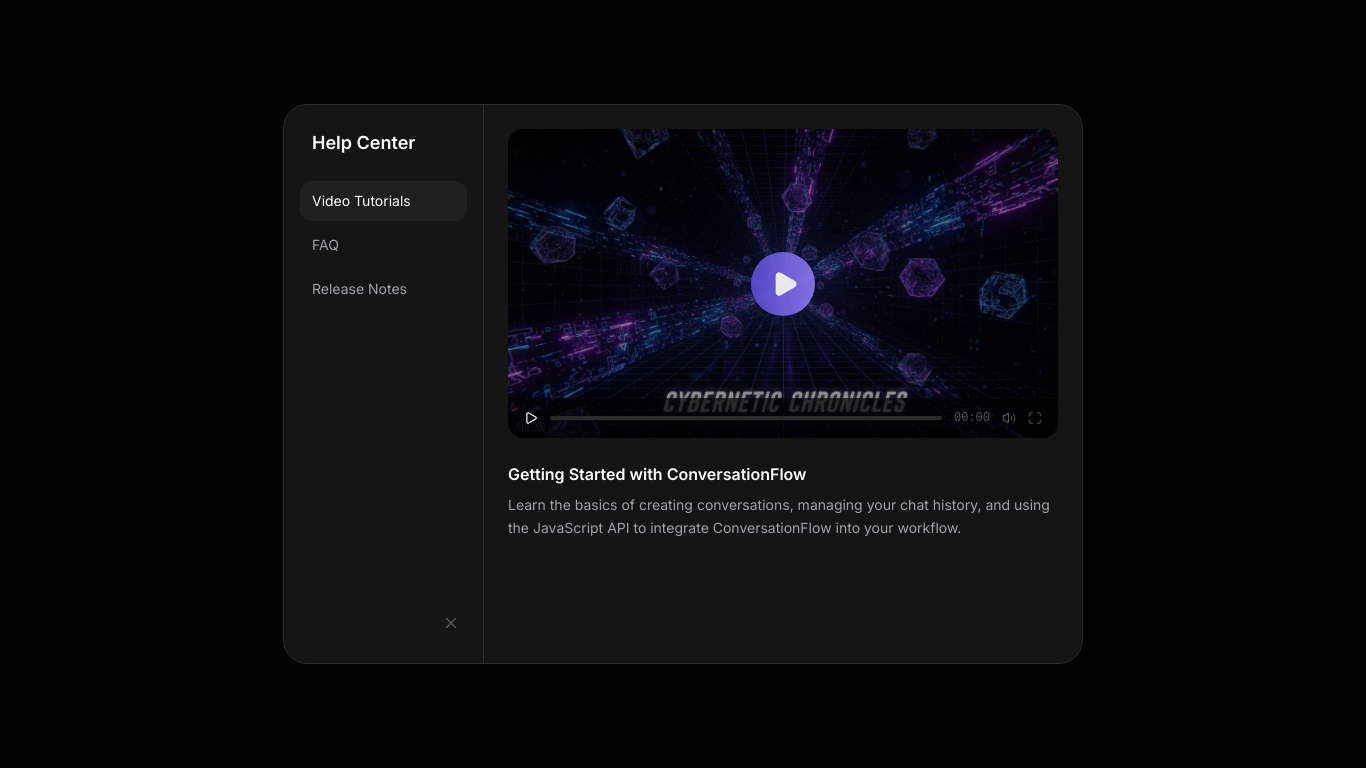
Scenario: HelpModal › switches tabs
The width and height of the screenshot is (1366, 768).
expect the heading "Getting Started with ConversationFlow" is shown: met, box [508, 464, 806, 484]
Click the button "FAQ" at (384, 245), box [300, 225, 467, 265]
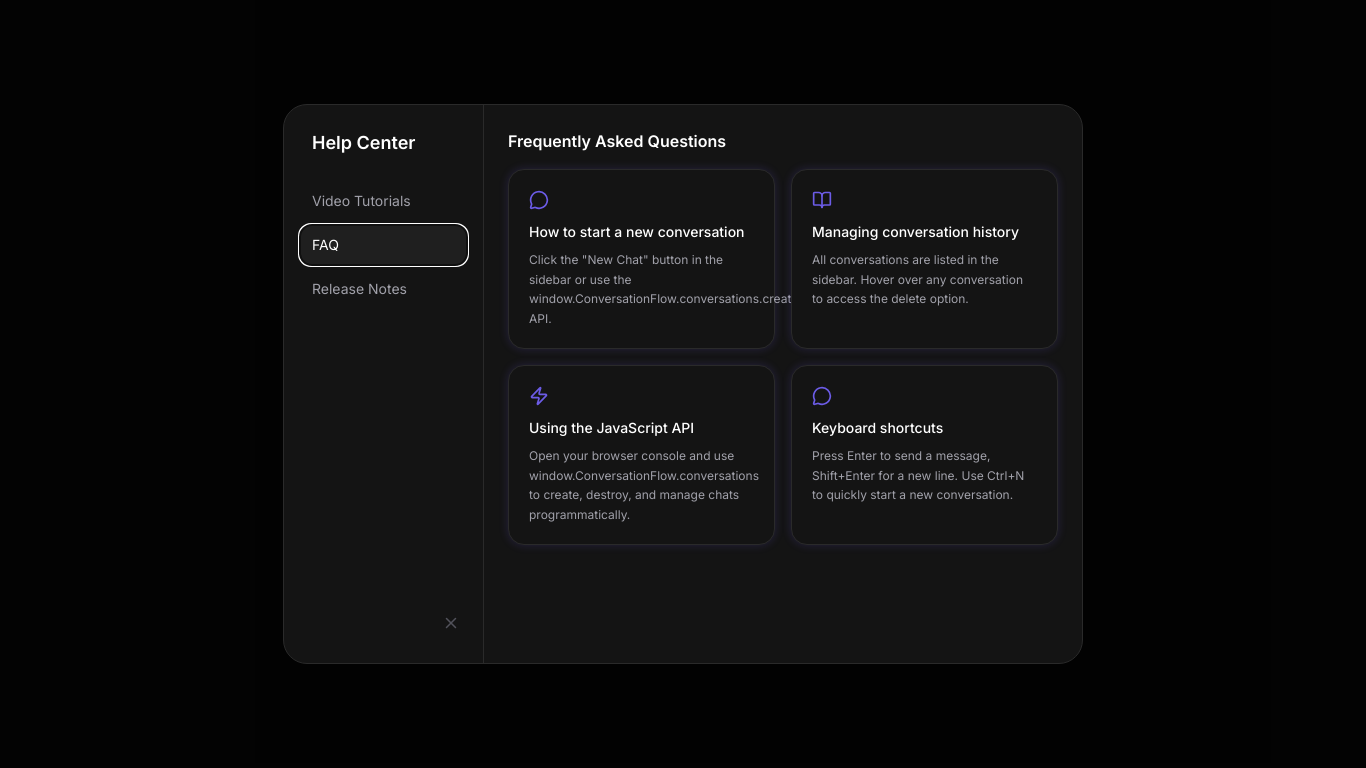
expect the heading "Frequently Asked Questions" is shown: met, box [508, 131, 726, 151]
Click the button "Release Notes" at (384, 289), box [300, 269, 467, 309]
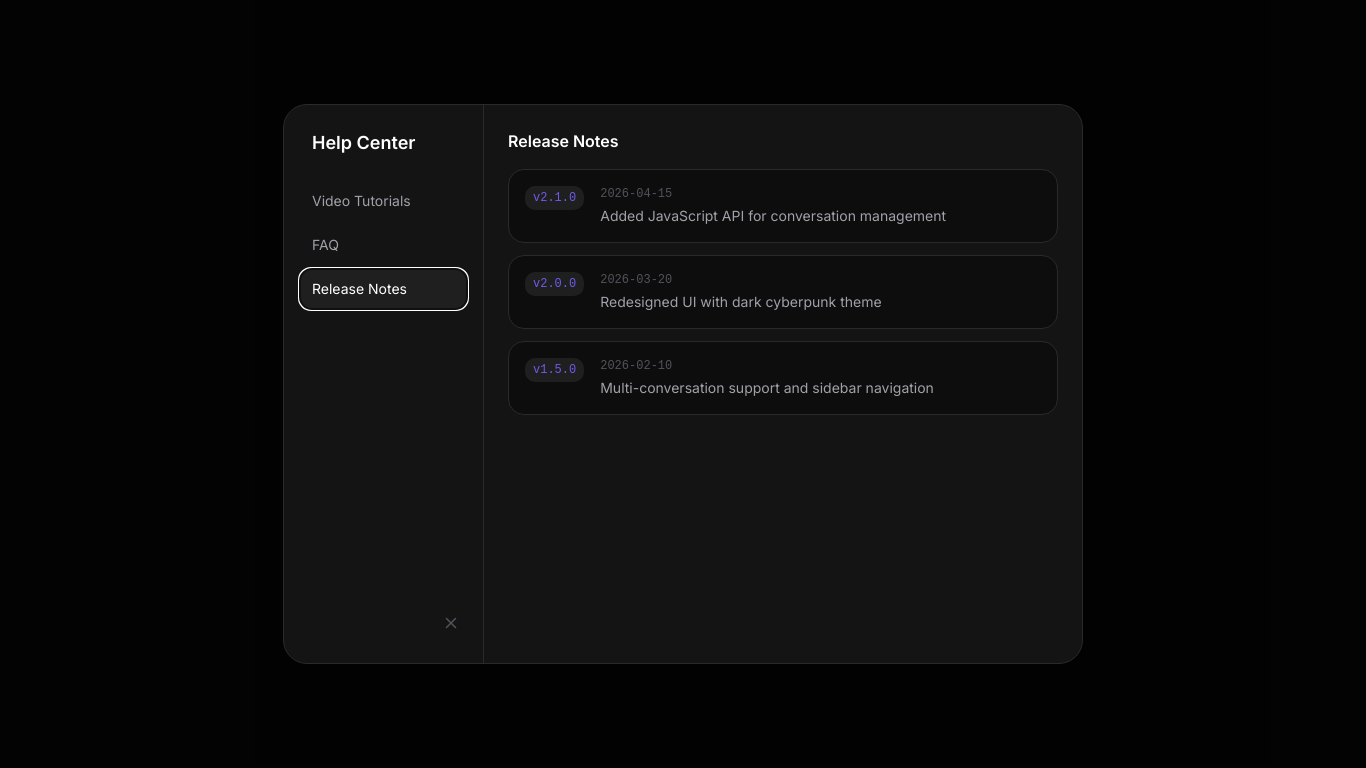
expect the heading "Release Notes" is shown: met, box [508, 131, 619, 151]
